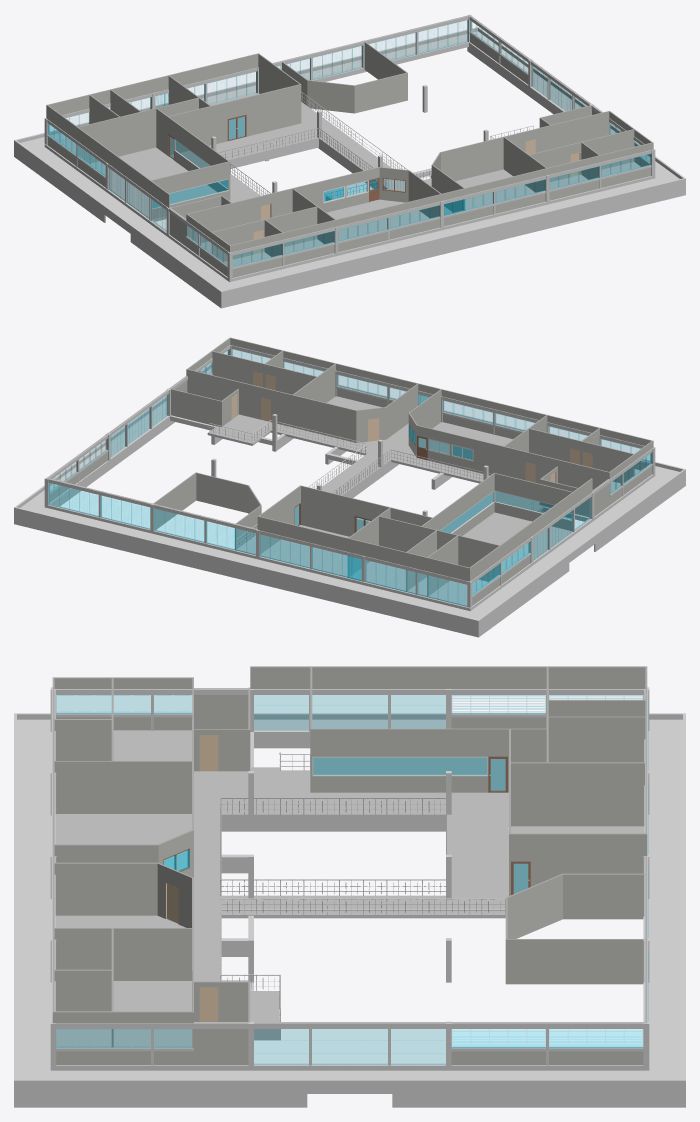
The picture shows the model from 3 angles, top to bottom: view 1: azimuth 30°, elevation 25°; view 2: azimuth 150°, elevation 25°; view 3: azimuth 270°, elevation 25°; orthographic projection. The views are drawn at different scales.
Visible parts, largest first — view 1: EN1050299, EN1050201, EN1050202, EN1050205, EN1050208, EN1050206, EN1050207, EN1050203, EN1050204; view 2: EN1050299, EN1050201, EN1050202, EN1050208, EN1050205, EN1050206, EN1050207, EN1050203, EN1050204; view 3: EN1050299, EN1050201, EN1050205, EN1050202, EN1050208, EN1050207, EN1050206, EN1050204, EN1050203.
Boxes of the visible parts, left/top/right/bottom form: EN1050299: left=14, top=14, right=685, bottom=308; EN1050201: left=44, top=53, right=301, bottom=169; EN1050202: left=75, top=108, right=230, bottom=223; EN1050205: left=185, top=188, right=338, bottom=282; EN1050208: left=503, top=111, right=655, bottom=204; EN1050206: left=292, top=171, right=443, bottom=255; EN1050207: left=431, top=165, right=549, bottom=224; EN1050203: left=166, top=195, right=239, bottom=249; EN1050204: left=540, top=104, right=610, bottom=147; EN1050299: left=14, top=363, right=685, bottom=637; EN1050201: left=257, top=486, right=502, bottom=611; EN1050202: left=420, top=473, right=575, bottom=587; EN1050208: left=186, top=337, right=338, bottom=427; EN1050205: left=504, top=415, right=655, bottom=507; EN1050206: left=408, top=389, right=549, bottom=475; EN1050207: left=292, top=363, right=418, bottom=442; EN1050203: left=540, top=460, right=610, bottom=521; EN1050204: left=167, top=369, right=238, bottom=424; EN1050299: left=14, top=666, right=685, bottom=1107; EN1050201: left=507, top=666, right=649, bottom=897; EN1050205: left=50, top=677, right=193, bottom=815; EN1050202: left=309, top=666, right=546, bottom=790; EN1050208: left=50, top=928, right=193, bottom=1070; EN1050207: left=50, top=863, right=191, bottom=982; EN1050206: left=50, top=761, right=195, bottom=898; EN1050204: left=192, top=981, right=253, bottom=1070; EN1050203: left=194, top=688, right=250, bottom=771.
Size of what is drawn, in the model's own units: 44 by 5.02 by 34.
